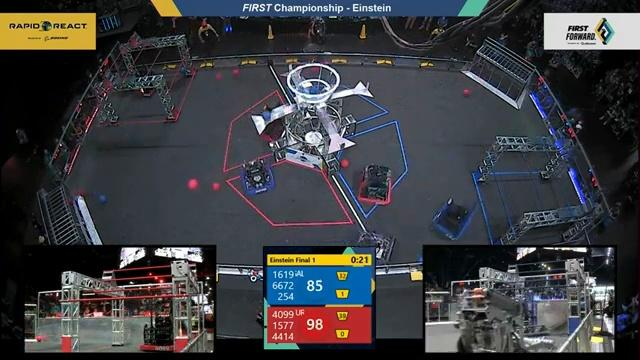robot: (351, 158, 407, 205), (427, 193, 478, 241), (233, 153, 278, 201), (351, 223, 393, 264), (141, 301, 174, 353), (132, 59, 159, 101)
